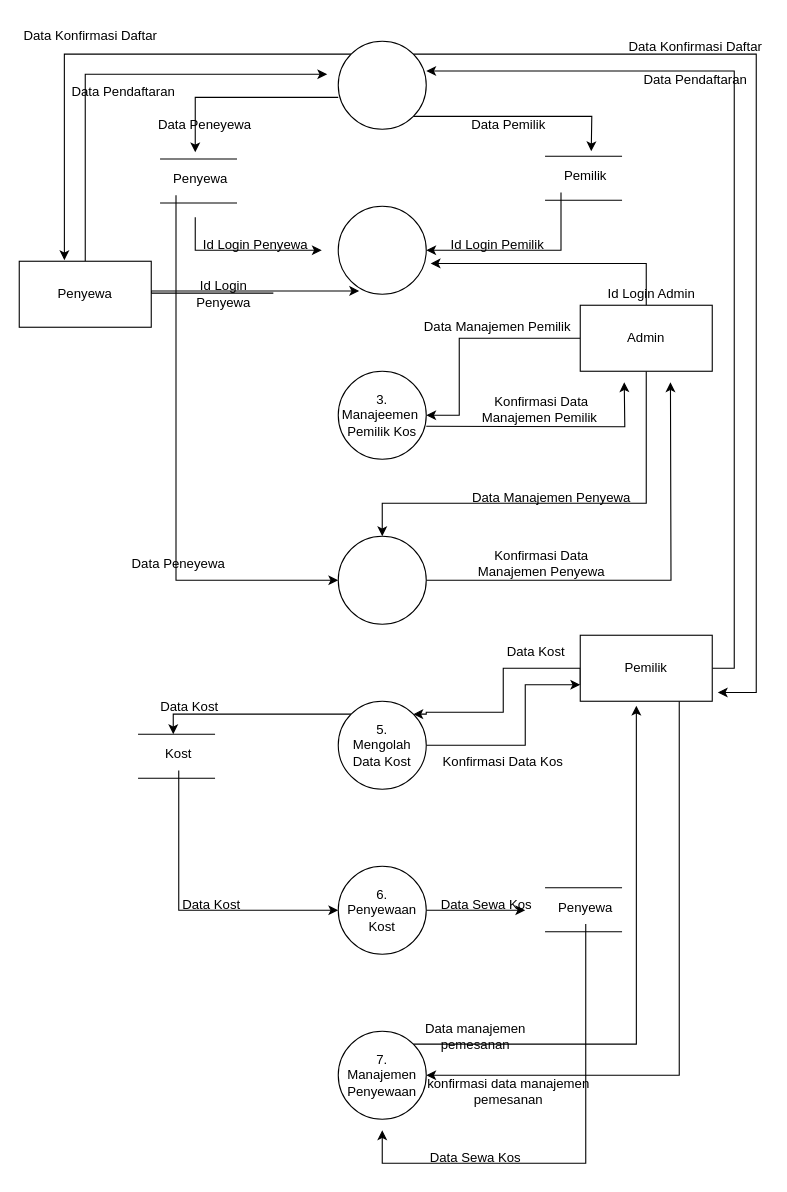
Image size: 787x1192. Some labels were removed from this diagram. The shapes that lost their labels are listed below. From the top down, each one's centre as x and y in pixels, then its label:
point 381,84: 1. Daftar
point 381,249: 2. Login
point 381,579: 4. Manajemen Penyewa
